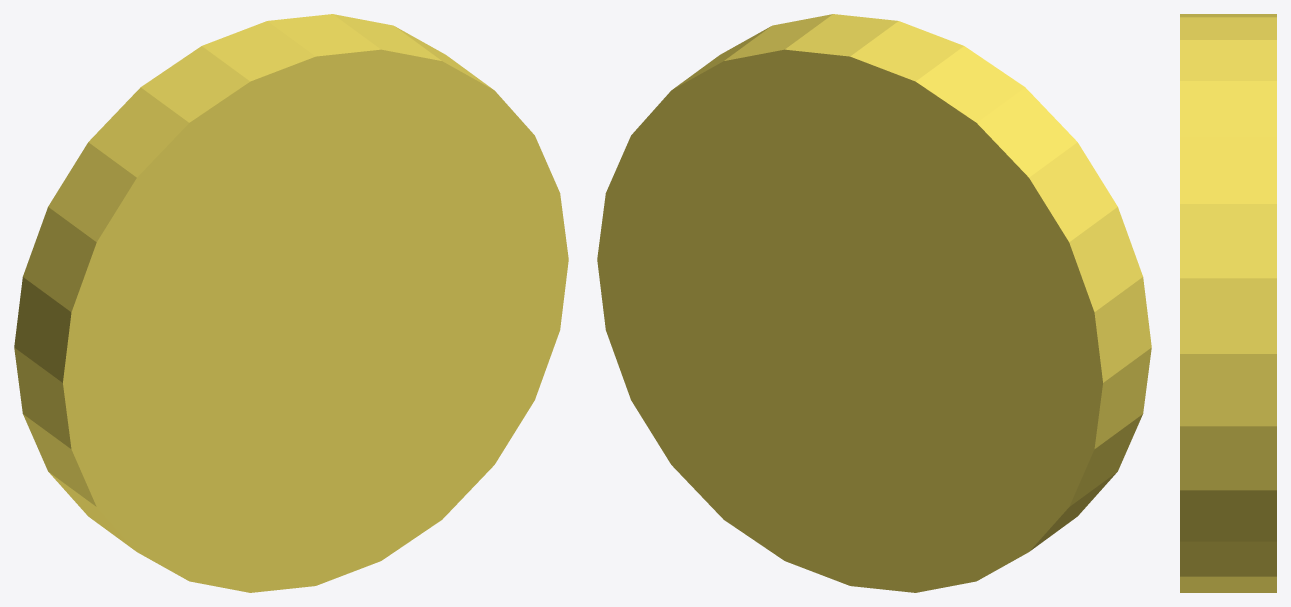
File: coin_z3_4_lev1.glb
The picture shows the model from 3 angles, left to right: view 1: azimuth 30°, elevation 25°; view 2: azimuth 150°, elevation 25°; view 3: azimuth 270°, elevation 25°; orthographic projection.
Parts seen in each view (by area): view 1: coin_z3_4_lev1; view 2: coin_z3_4_lev1; view 3: coin_z3_4_lev1.
Boxes of the visible parts, x1=… form: coin_z3_4_lev1: x1=14, y1=14, x2=568, y2=592; coin_z3_4_lev1: x1=597, y1=14, x2=1151, y2=592; coin_z3_4_lev1: x1=1180, y1=14, x2=1276, y2=592.
Size of the model in its own units: 0.6 by 0.6 by 0.1.
